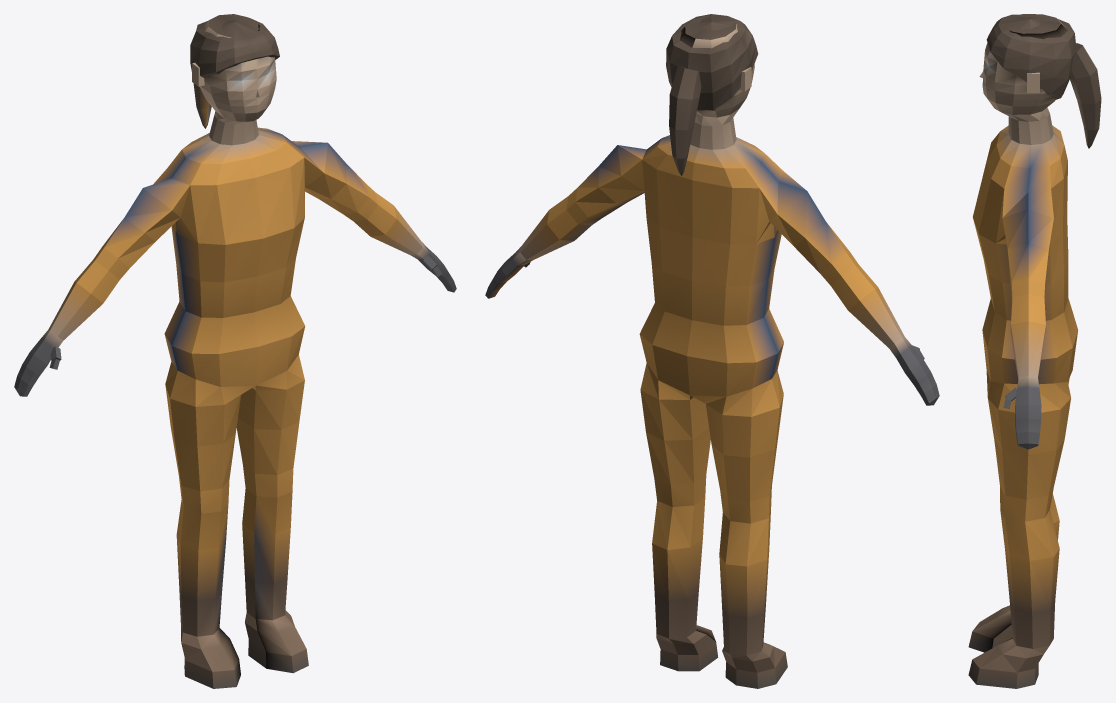
The model's file is char__pessoa__multidao_22.glb.
3 renders of one model, left to right at view 1: azimuth 30°, elevation 25°; view 2: azimuth 150°, elevation 25°; view 3: azimuth 270°, elevation 25°, orthographic. The views are drawn at different scales.
Parts seen in each view (by area): view 1: char__pessoa__multidao_22; view 2: char__pessoa__multidao_22; view 3: char__pessoa__multidao_22.
Part boxes in pixels (<box>): char__pessoa__multidao_22: <box>14,14,456,688</box>; char__pessoa__multidao_22: <box>485,14,939,688</box>; char__pessoa__multidao_22: <box>968,14,1101,688</box>.
Bounding box in the file's own units: 1.22 × 1.72 × 0.3205.
